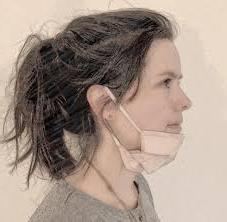mask_weared_incorrect: (134, 56, 193, 177)
